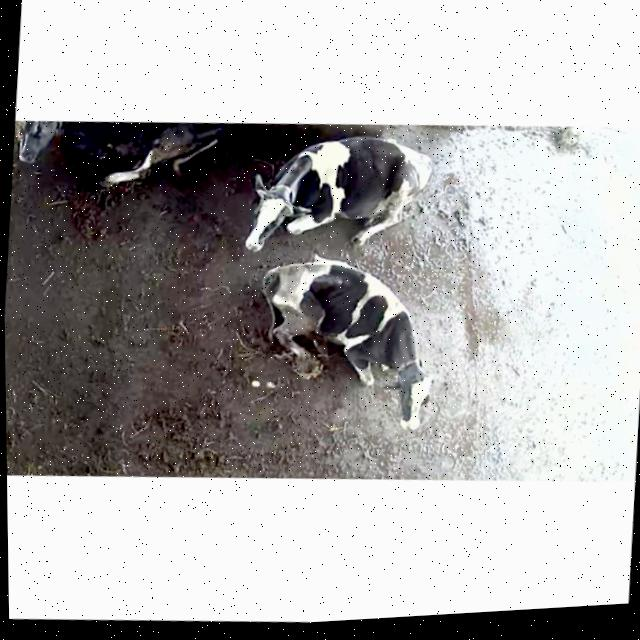lay: (212, 237, 471, 445), (238, 114, 437, 272), (11, 108, 231, 199)
